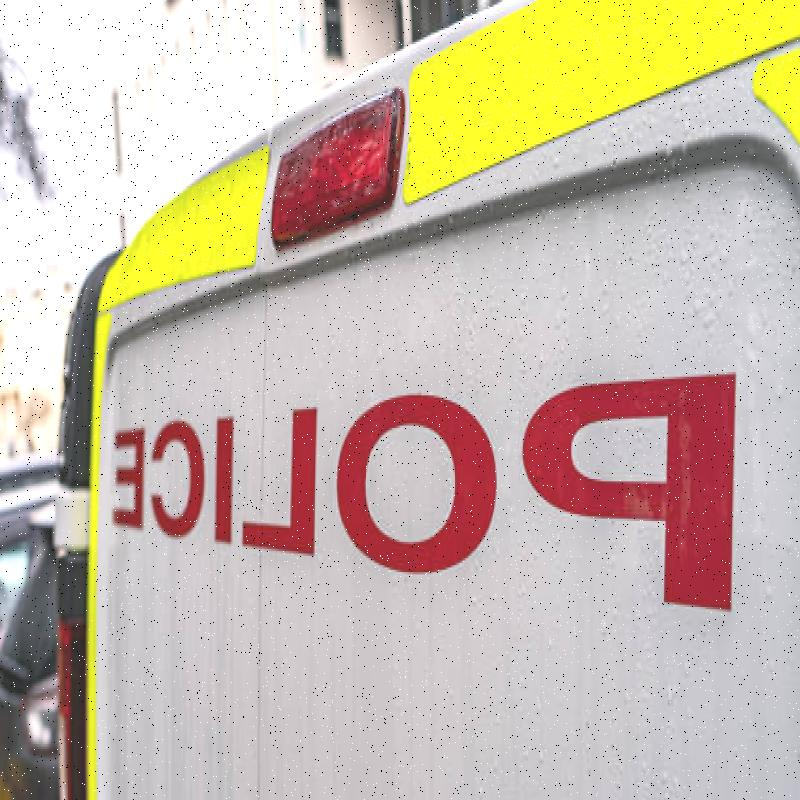AmbulanceSiren: (258, 79, 410, 266)
